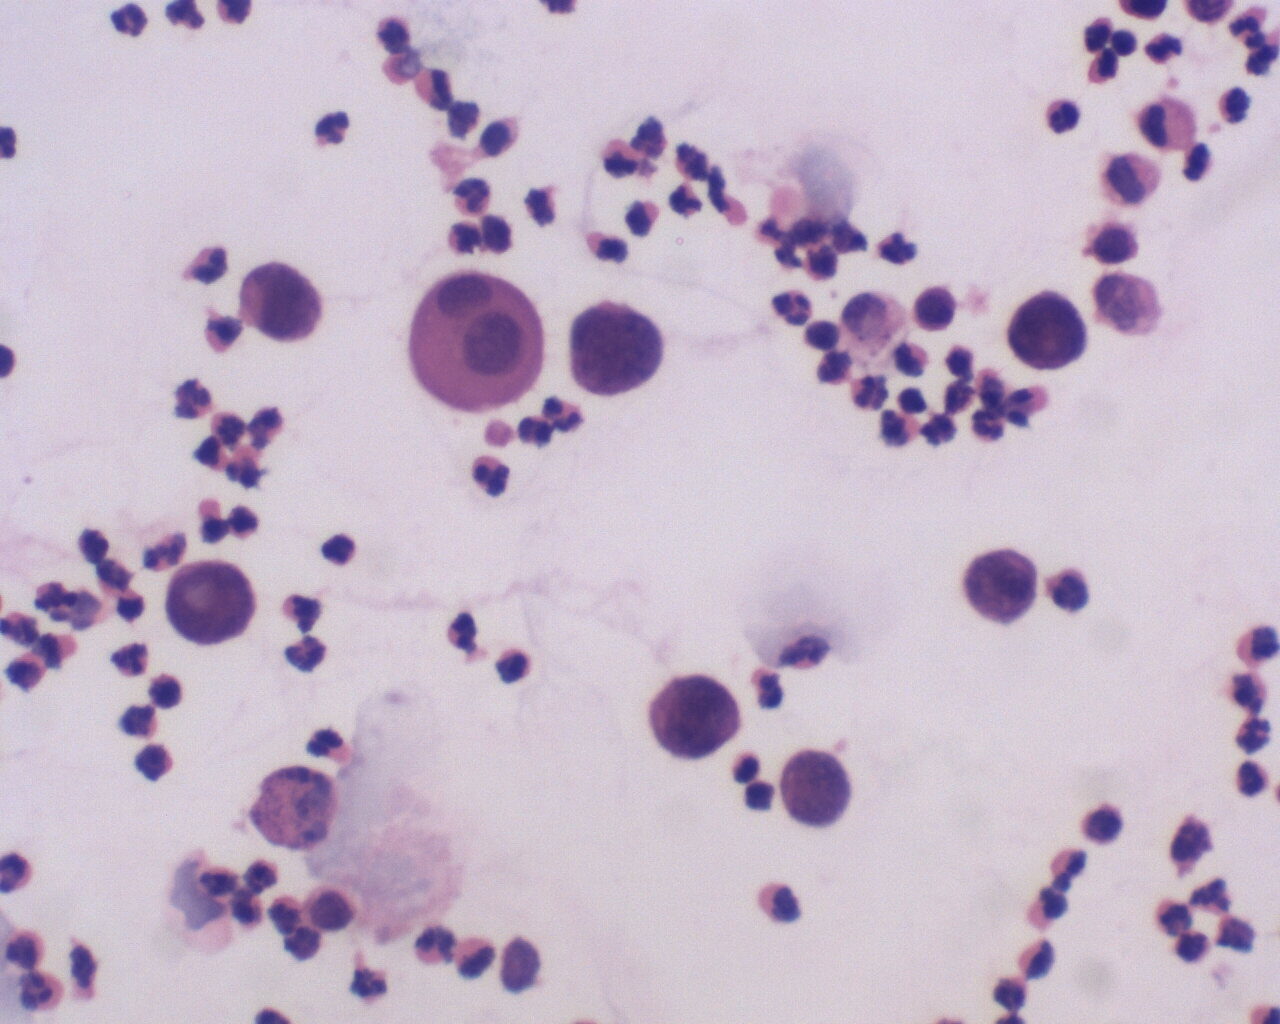ab: (565, 292, 673, 402), (645, 660, 739, 768), (165, 558, 260, 652), (240, 253, 327, 352), (1006, 287, 1089, 379), (777, 747, 858, 837), (959, 546, 1040, 633)
meso: (404, 266, 548, 410), (1138, 94, 1200, 158)
neutro: (468, 449, 515, 508), (14, 967, 70, 1015), (770, 280, 817, 329), (184, 240, 231, 287), (453, 168, 499, 216), (346, 955, 387, 1006), (106, 1, 152, 46), (1148, 897, 1195, 939), (310, 106, 354, 150), (107, 636, 152, 680), (441, 608, 484, 653), (1043, 96, 1086, 140), (1233, 716, 1276, 760)
